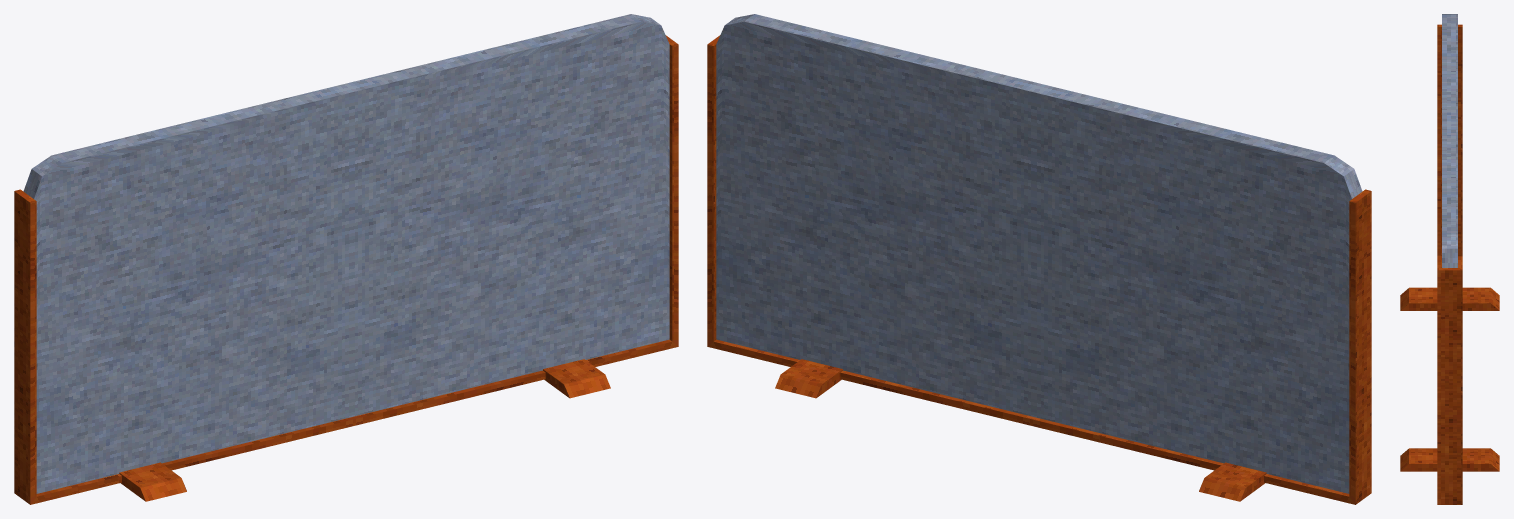
Rendered from divider_veneer_blue_low.glb.
The picture shows the model from 3 angles, left to right: view 1: azimuth 30°, elevation 25°; view 2: azimuth 150°, elevation 25°; view 3: azimuth 270°, elevation 25°; orthographic projection. The views are drawn at different scales.
Visible parts, largest first — view 1: divider_veneer_blue_low; view 2: divider_veneer_blue_low; view 3: divider_veneer_blue_low.
Part boxes in pixels (<box>): divider_veneer_blue_low: <box>14,14,678,504</box>; divider_veneer_blue_low: <box>707,14,1371,504</box>; divider_veneer_blue_low: <box>1400,14,1499,504</box>.
Size of the model in its own units: 3.06 by 1.5 by 0.523.
Materials: 1 (1 with a texture image).
